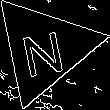N_N: (19, 20, 69, 78)
